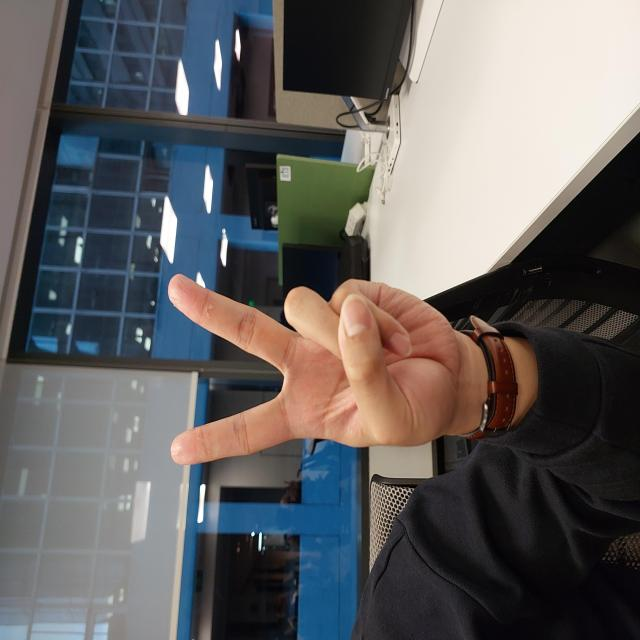V: (175, 168, 366, 460)
